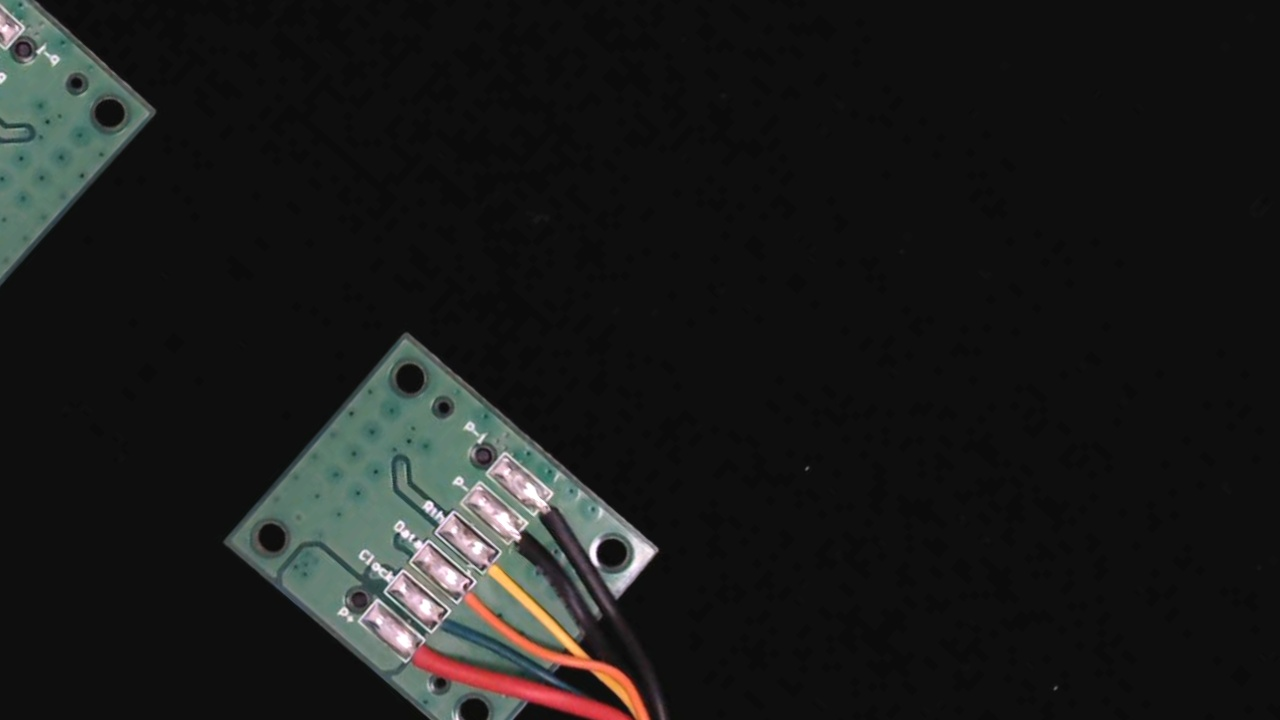Black: (493, 512, 563, 578)
Black1: (521, 479, 594, 549)
Green: (413, 596, 481, 661)
Orange: (440, 569, 507, 633)
Red: (387, 625, 462, 697)
Yellow: (468, 541, 538, 607)
